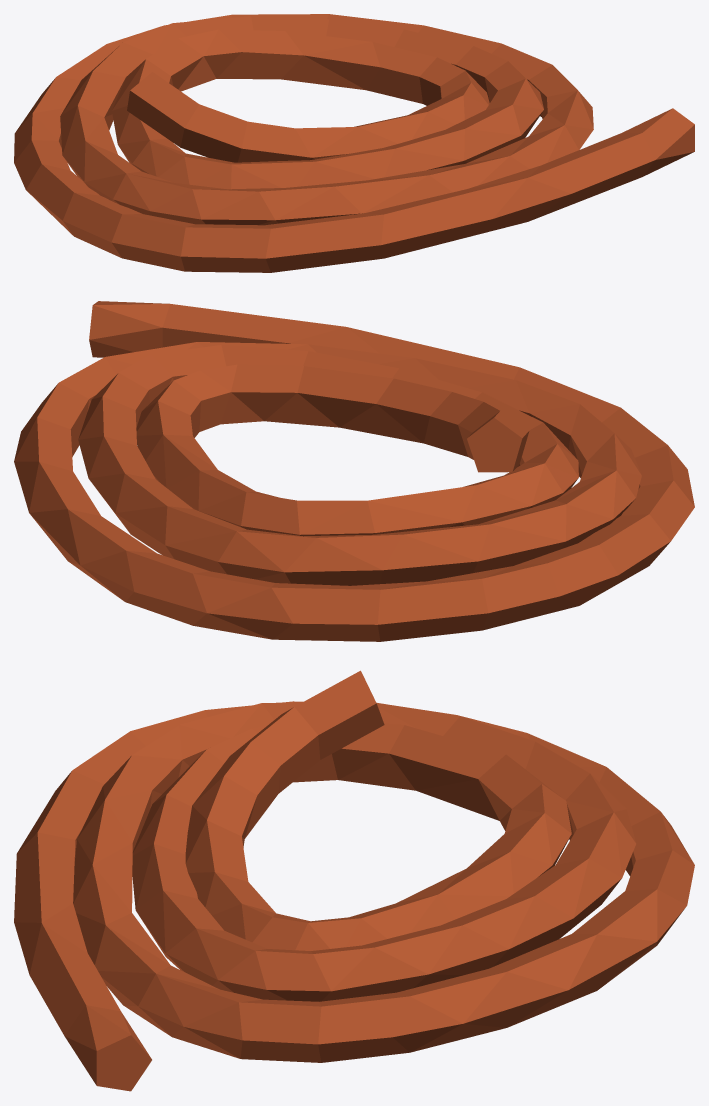
Rendered from Rope.fbx.
3 views of the same model, one above another, from view 1: azimuth 30°, elevation 25°; view 2: azimuth 150°, elevation 25°; view 3: azimuth 270°, elevation 25° (orthographic). The views are drawn at different scales.
Parts seen in each view (by area): view 1: Rope_NurbsPath; view 2: Rope_NurbsPath; view 3: Rope_NurbsPath.
Boxes of the visible parts, x1,y1,x2,y2 form: Rope_NurbsPath: [14, 14, 694, 272]; Rope_NurbsPath: [14, 301, 694, 641]; Rope_NurbsPath: [14, 670, 694, 1091].
Size of the model in its own units: 0.906 by 0.1857 by 0.7488.
